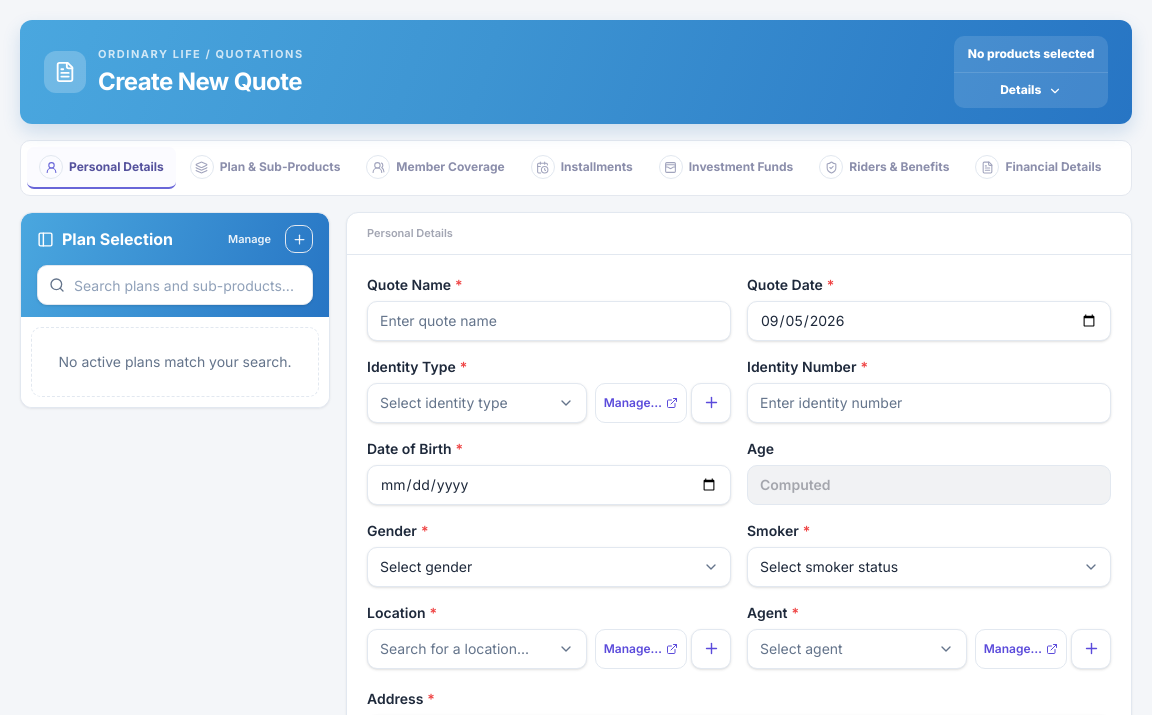
Scenario: OL quotation wizard › computes age from Date of Birth and Quote Date
Check: the date field labelled "Date of Birth*" is shown, box [367,465,731,505]
Type "2026-08-19" into the date field labelled "Quote Date*" at coordinates (929, 321), box [747,301,1111,341]
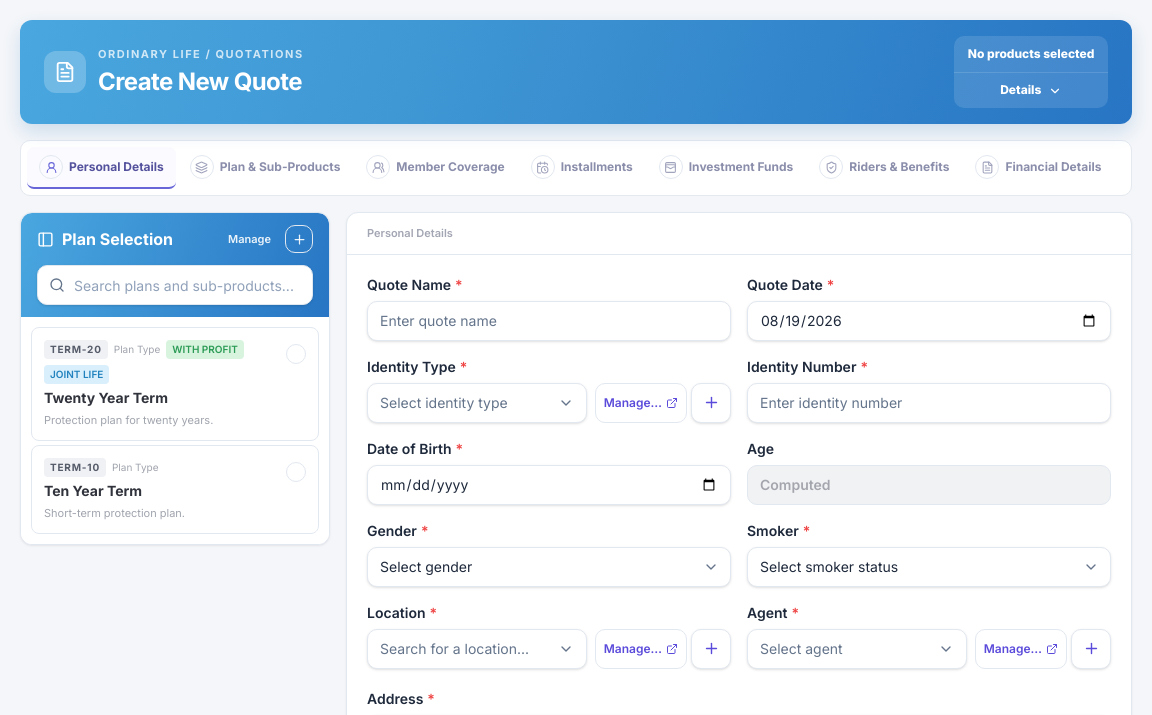
Type "1990-08-20" into the date field labelled "Date of Birth*" at coordinates (549, 485), box [367,465,731,505]
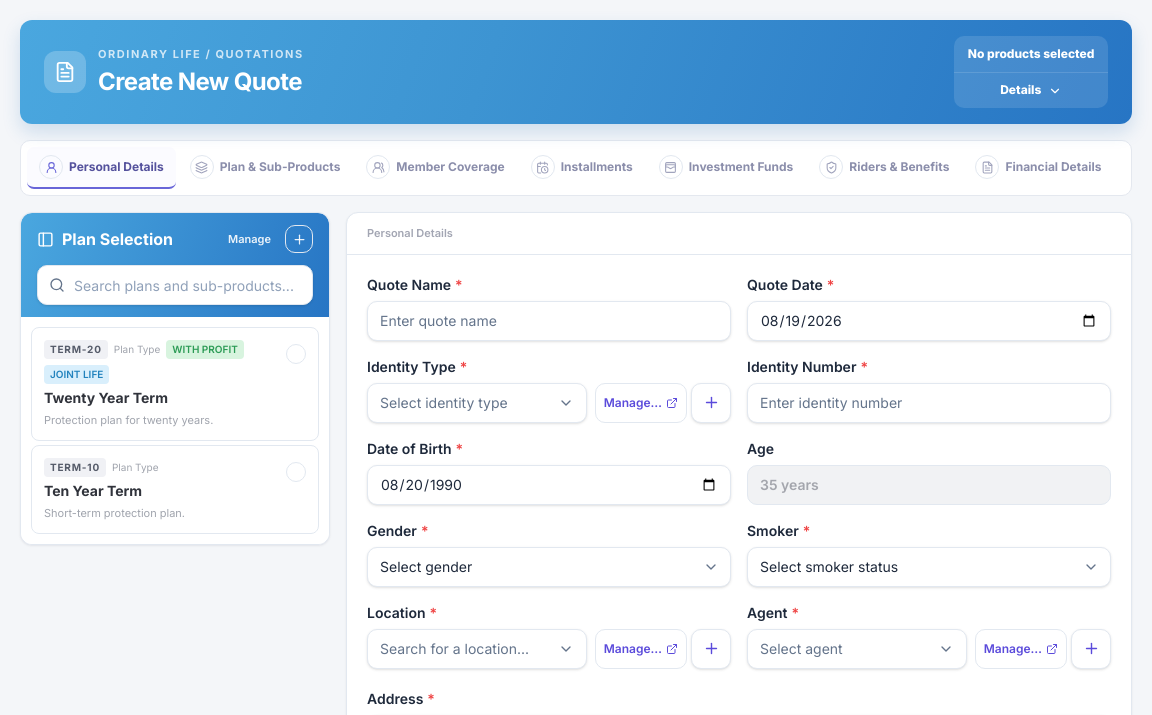
Check: the text "35 years" is shown, box [747,465,1111,505]
